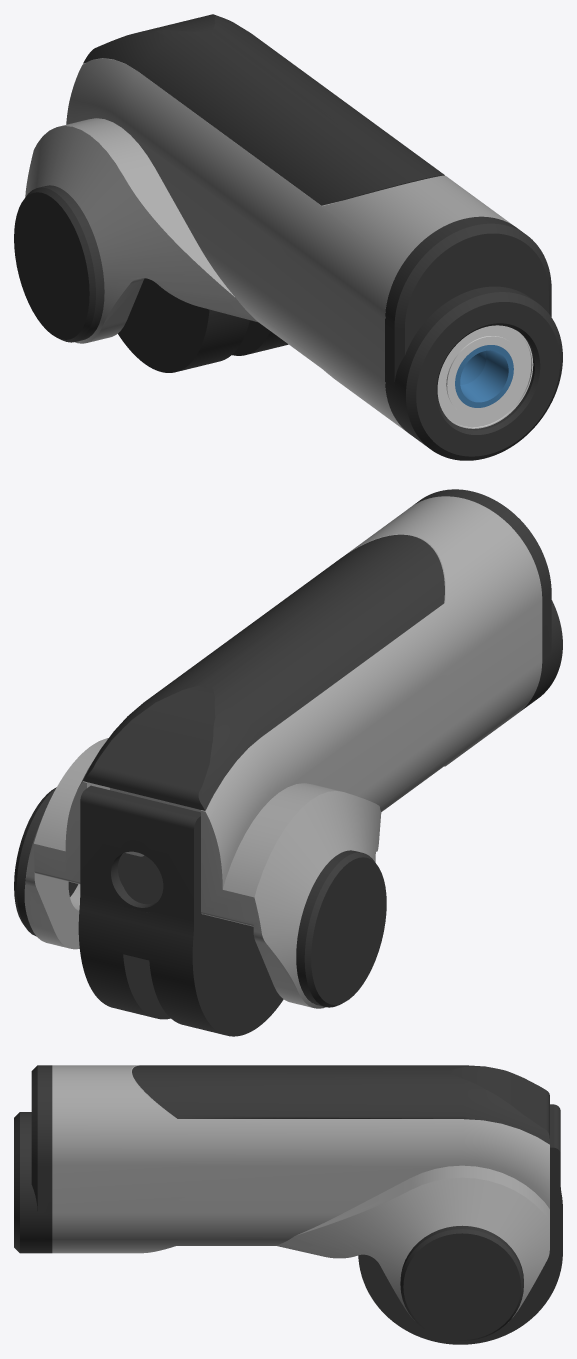
File: Haptic_device_portal.obj
3 views of the same model, one above another, from view 1: azimuth 30°, elevation 25°; view 2: azimuth 150°, elevation 25°; view 3: azimuth 270°, elevation 25° (orthographic). The views are drawn at different scales.
Visible parts, largest first — view 1: Mesh5_G_201___Insert_housing_G_200___Insert_G_200__300_Model, Mesh3_G_202___Cap_G_200___Insert_G_200__300_Model, Mesh10_Cover_G_200___Insert_G_200__300_Model, Mesh7_G_205___Bearing_cap_L_G_200___Insert_G_200__300_Model, Mesh9_G_207___Gear_cover_G_200___Insert_G_200__300_Model, Mesh8_G_229___Sleeve_top_bearing_G_200___Insert_G_200__300_Mode, Mesh4_G_203___Sleeve_assy_G_200___Insert_G_200__300_Model; view 2: Mesh5_G_201___Insert_housing_G_200___Insert_G_200__300_Model, Mesh10_Cover_G_200___Insert_G_200__300_Model, Mesh9_G_207___Gear_cover_G_200___Insert_G_200__300_Model, Mesh7_G_205___Bearing_cap_L_G_200___Insert_G_200__300_Model, Mesh3_G_202___Cap_G_200___Insert_G_200__300_Model, Mesh6_G_205___Bearing_cap_R_G_200___Insert_G_200__300_Model; view 3: Mesh5_G_201___Insert_housing_G_200___Insert_G_200__300_Model, Mesh10_Cover_G_200___Insert_G_200__300_Model, Mesh6_G_205___Bearing_cap_R_G_200___Insert_G_200__300_Model, Mesh3_G_202___Cap_G_200___Insert_G_200__300_Model, Mesh9_G_207___Gear_cover_G_200___Insert_G_200__300_Model.
Boxes of the visible parts, x1,y1,x2,y2 form: Mesh5_G_201___Insert_housing_G_200___Insert_G_200__300_Model: (25, 58, 513, 432); Mesh3_G_202___Cap_G_200___Insert_G_200__300_Model: (385, 216, 562, 460); Mesh10_Cover_G_200___Insert_G_200__300_Model: (83, 14, 444, 205); Mesh7_G_205___Bearing_cap_L_G_200___Insert_G_200__300_Model: (14, 185, 104, 342); Mesh9_G_207___Gear_cover_G_200___Insert_G_200__300_Model: (118, 278, 288, 372); Mesh8_G_229___Sleeve_top_bearing_G_200___Insert_G_200__300_Mode: (437, 325, 533, 428); Mesh4_G_203___Sleeve_assy_G_200___Insert_G_200__300_Model: (455, 345, 513, 407); Mesh5_G_201___Insert_housing_G_200___Insert_G_200__300_Model: (24, 496, 542, 1008); Mesh10_Cover_G_200___Insert_G_200__300_Model: (83, 534, 444, 810); Mesh9_G_207___Gear_cover_G_200___Insert_G_200__300_Model: (78, 785, 283, 1036); Mesh7_G_205___Bearing_cap_L_G_200___Insert_G_200__300_Model: (296, 850, 386, 1007); Mesh3_G_202___Cap_G_200___Insert_G_200__300_Model: (414, 489, 562, 711); Mesh6_G_205___Bearing_cap_R_G_200___Insert_G_200__300_Model: (14, 787, 78, 936); Mesh5_G_201___Insert_housing_G_200___Insert_G_200__300_Model: (52, 1065, 549, 1322); Mesh10_Cover_G_200___Insert_G_200__300_Model: (132, 1065, 549, 1144); Mesh6_G_205___Bearing_cap_R_G_200___Insert_G_200__300_Model: (400, 1225, 523, 1340); Mesh3_G_202___Cap_G_200___Insert_G_200__300_Model: (14, 1065, 52, 1253); Mesh9_G_207___Gear_cover_G_200___Insert_G_200__300_Model: (358, 1104, 562, 1344).
Bounding box in the file's own units: 45.39 × 47.12 × 93.27.
